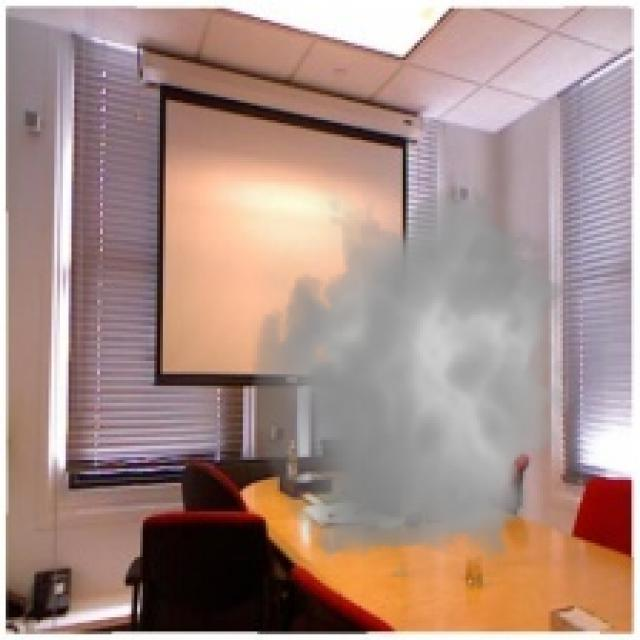Smoke: (240, 172, 583, 577)
